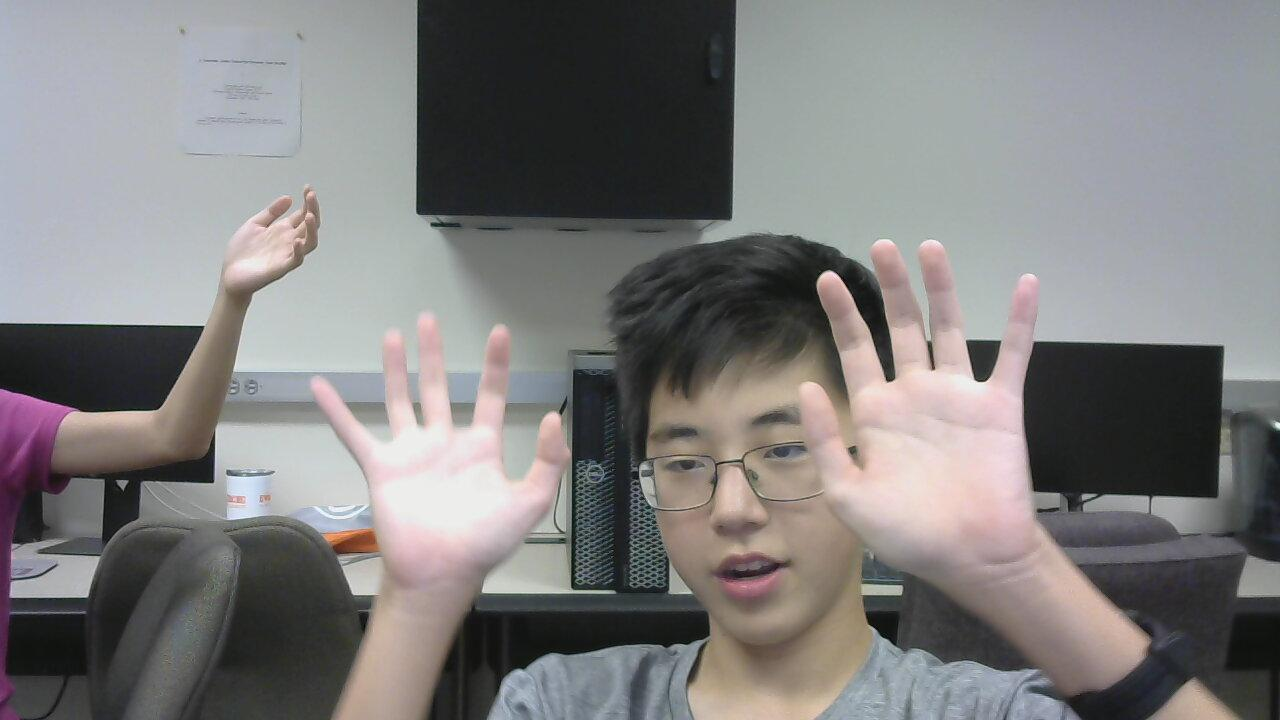hands: (786, 228, 1054, 556), (292, 310, 580, 573), (215, 169, 331, 305)
